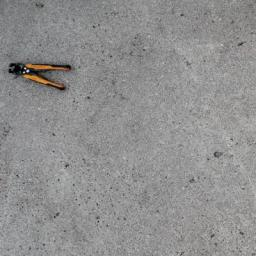FOD: (8, 59, 75, 93)
